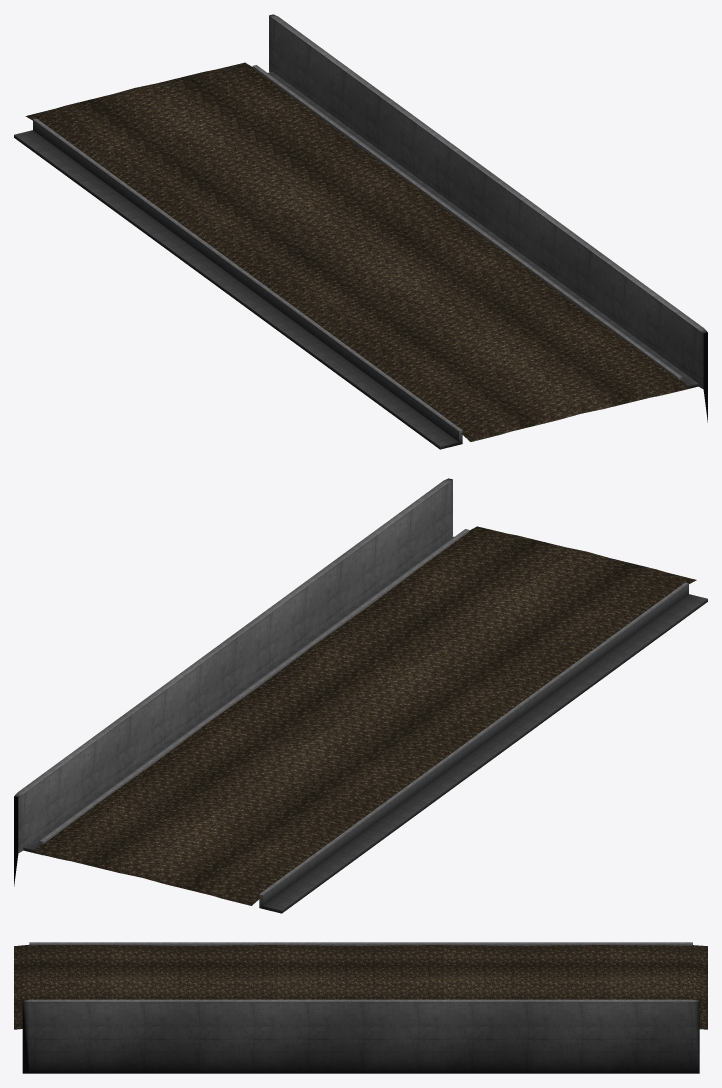
The model's file is AMB_JARI_KIN_L_WALL.glb.
The picture shows the model from 3 angles, top to bottom: view 1: azimuth 30°, elevation 25°; view 2: azimuth 150°, elevation 25°; view 3: azimuth 270°, elevation 25°; orthographic projection. The views are drawn at different scales.
Parts seen in each view (by area): view 1: Mesh1; view 2: Mesh1; view 3: Mesh1.
Boxes of the visible parts, x1,y1,x2,y2 form: Mesh1: (14, 14, 707, 449); Mesh1: (14, 478, 707, 913); Mesh1: (14, 942, 707, 1073).
Size of the model in its own units: 35.82 by 11.93 by 105.
2 materials, 2 textured.
